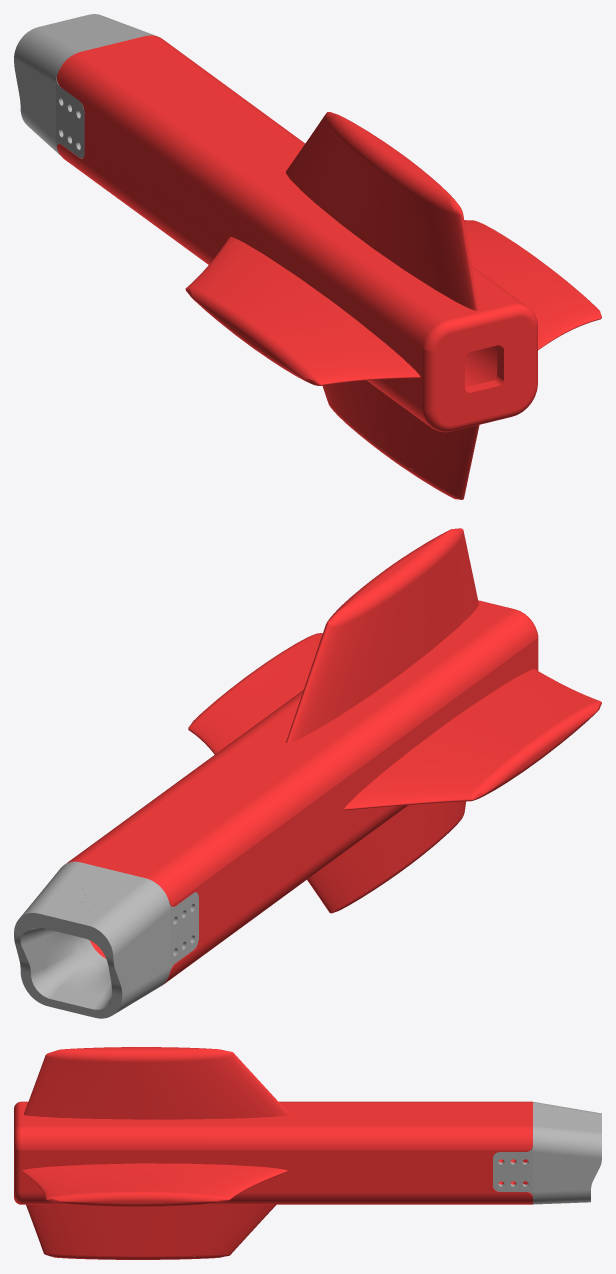
The model's file is thorn.glb.
The picture shows the model from 3 angles, top to bottom: view 1: azimuth 30°, elevation 25°; view 2: azimuth 150°, elevation 25°; view 3: azimuth 270°, elevation 25°; orthographic projection. The views are drawn at different scales.
Parts seen in each view (by area): view 1: thorn-1, RoboMaster_Dart_Trigger_Device-1; view 2: thorn-1, RoboMaster_Dart_Trigger_Device-1; view 3: thorn-1, RoboMaster_Dart_Trigger_Device-1.
Part boxes in pixels (<box>): thorn-1: <box>57,35,601,499</box>; RoboMaster_Dart_Trigger_Device-1: <box>14,14,161,158</box>; thorn-1: <box>66,528,601,985</box>; RoboMaster_Dart_Trigger_Device-1: <box>14,861,198,1018</box>; thorn-1: <box>14,1047,532,1259</box>; RoboMaster_Dart_Trigger_Device-1: <box>493,1101,601,1204</box>.
Bounding box in the file's own units: 0.098 × 0.0954 × 0.2425.
